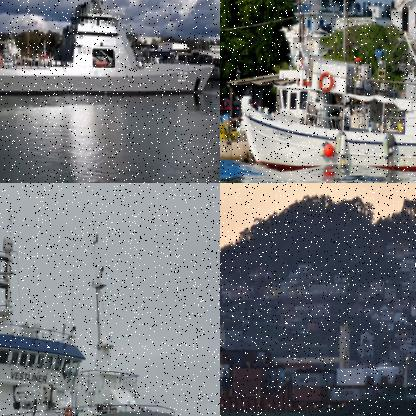Fishing Boat: (0, 206, 180, 415), (240, 25, 415, 171)
Merchant Ship: (220, 293, 415, 415)
Military Ship: (0, 0, 217, 98)
